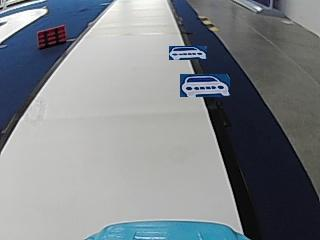bomb: (36, 23, 66, 47)
